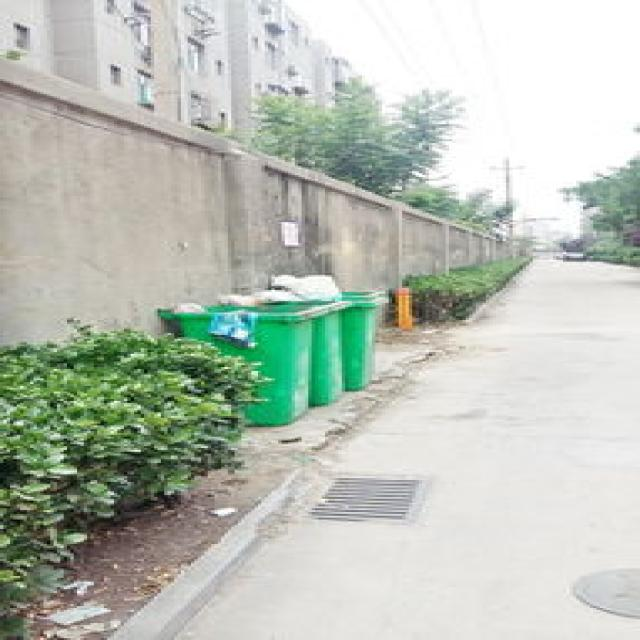overflow: (150, 294, 312, 426), (268, 271, 349, 405)
